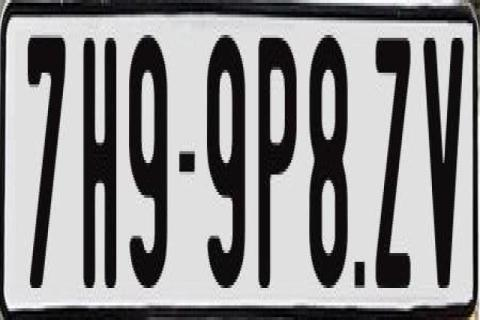0: (27, 29, 70, 279), (310, 32, 352, 285), (204, 35, 245, 288), (126, 29, 165, 291)
H: (81, 29, 114, 282)
P: (256, 38, 300, 294)
V: (422, 38, 466, 297)
Z: (374, 29, 415, 282)
